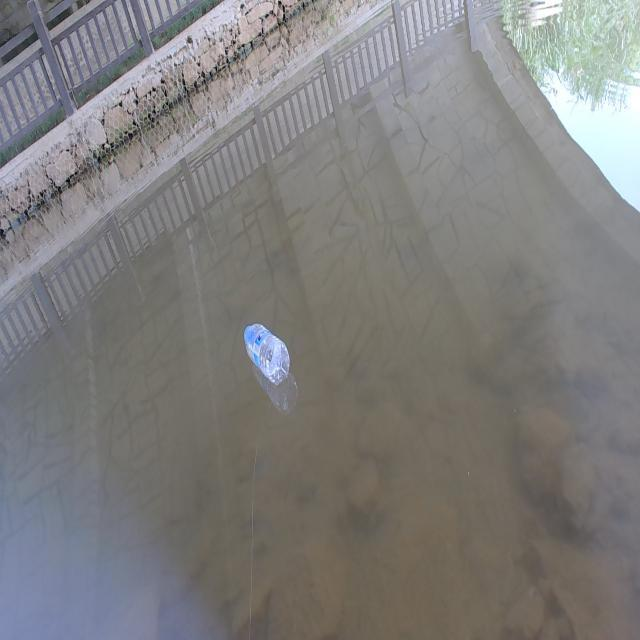bottle: (228, 315, 313, 391)
